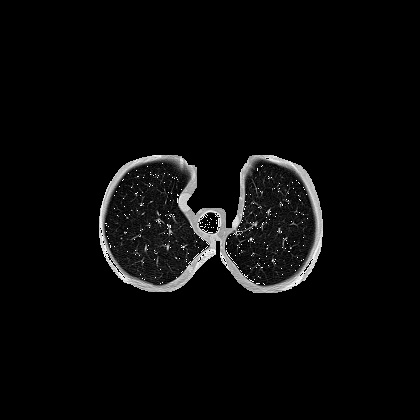PN: (235, 229, 241, 235)
